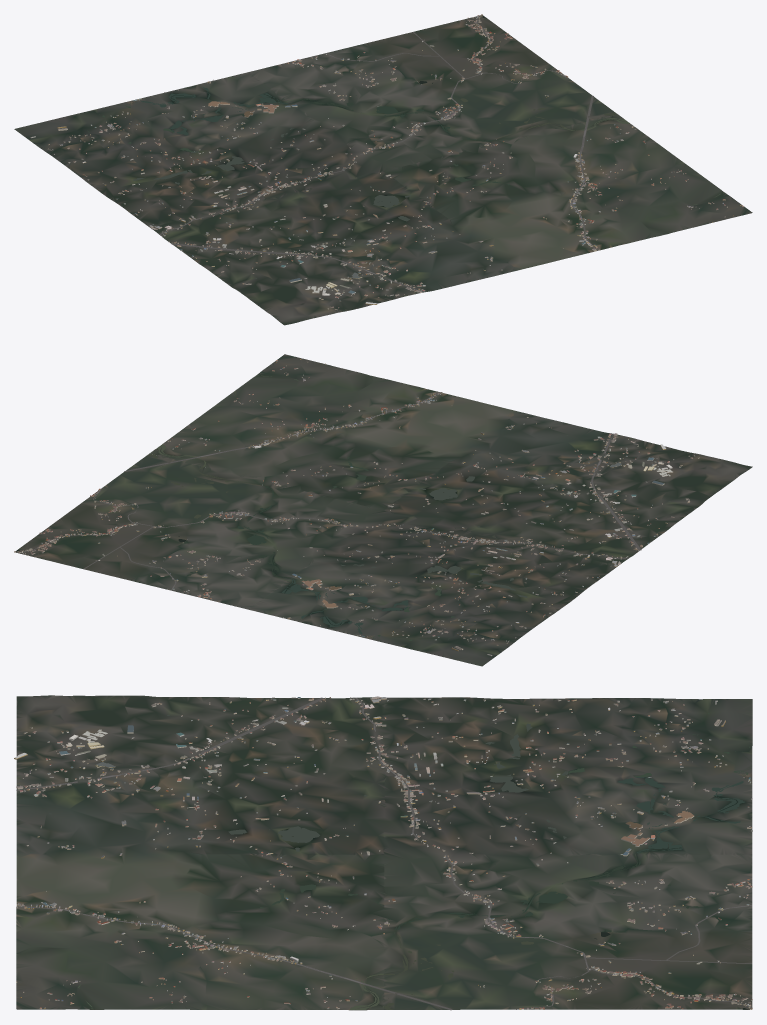
3 renders of one model, top to bottom at view 1: azimuth 30°, elevation 25°; view 2: azimuth 150°, elevation 25°; view 3: azimuth 270°, elevation 25°, orthographic. The views are drawn at different scales.
Parts seen in each view (by area): view 1: ground, buildings, water, roads; view 2: ground, buildings, water, roads; view 3: ground, buildings, water, roads.
Boxes of the visible parts, x1,y1,x2,y2 form: ground: (14, 15, 752, 325); buildings: (30, 14, 743, 310); water: (51, 16, 723, 278); roads: (159, 15, 597, 292); ground: (15, 354, 752, 666); buildings: (14, 359, 699, 655); water: (16, 375, 670, 649); roads: (17, 392, 641, 590); ground: (16, 695, 752, 1010); buildings: (14, 696, 752, 1009); water: (30, 713, 750, 1010); roads: (16, 697, 752, 1010).
Size of the model in its own units: 5624 by 57.06 by 5632.
